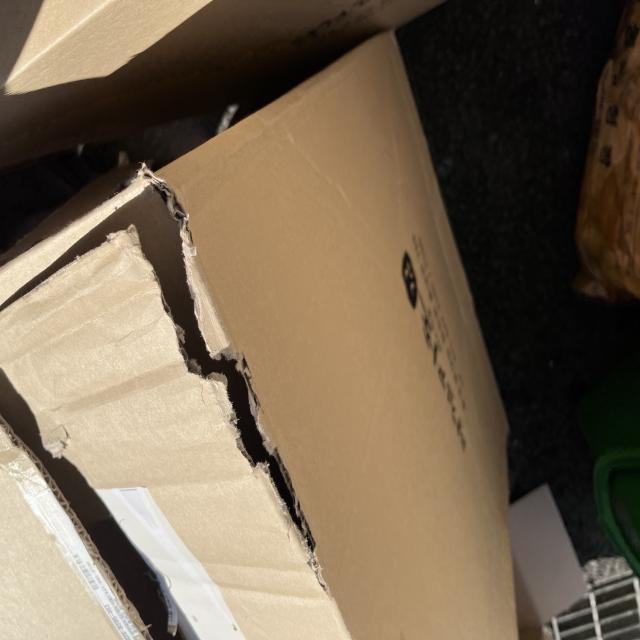hole: (120, 180, 320, 576)
